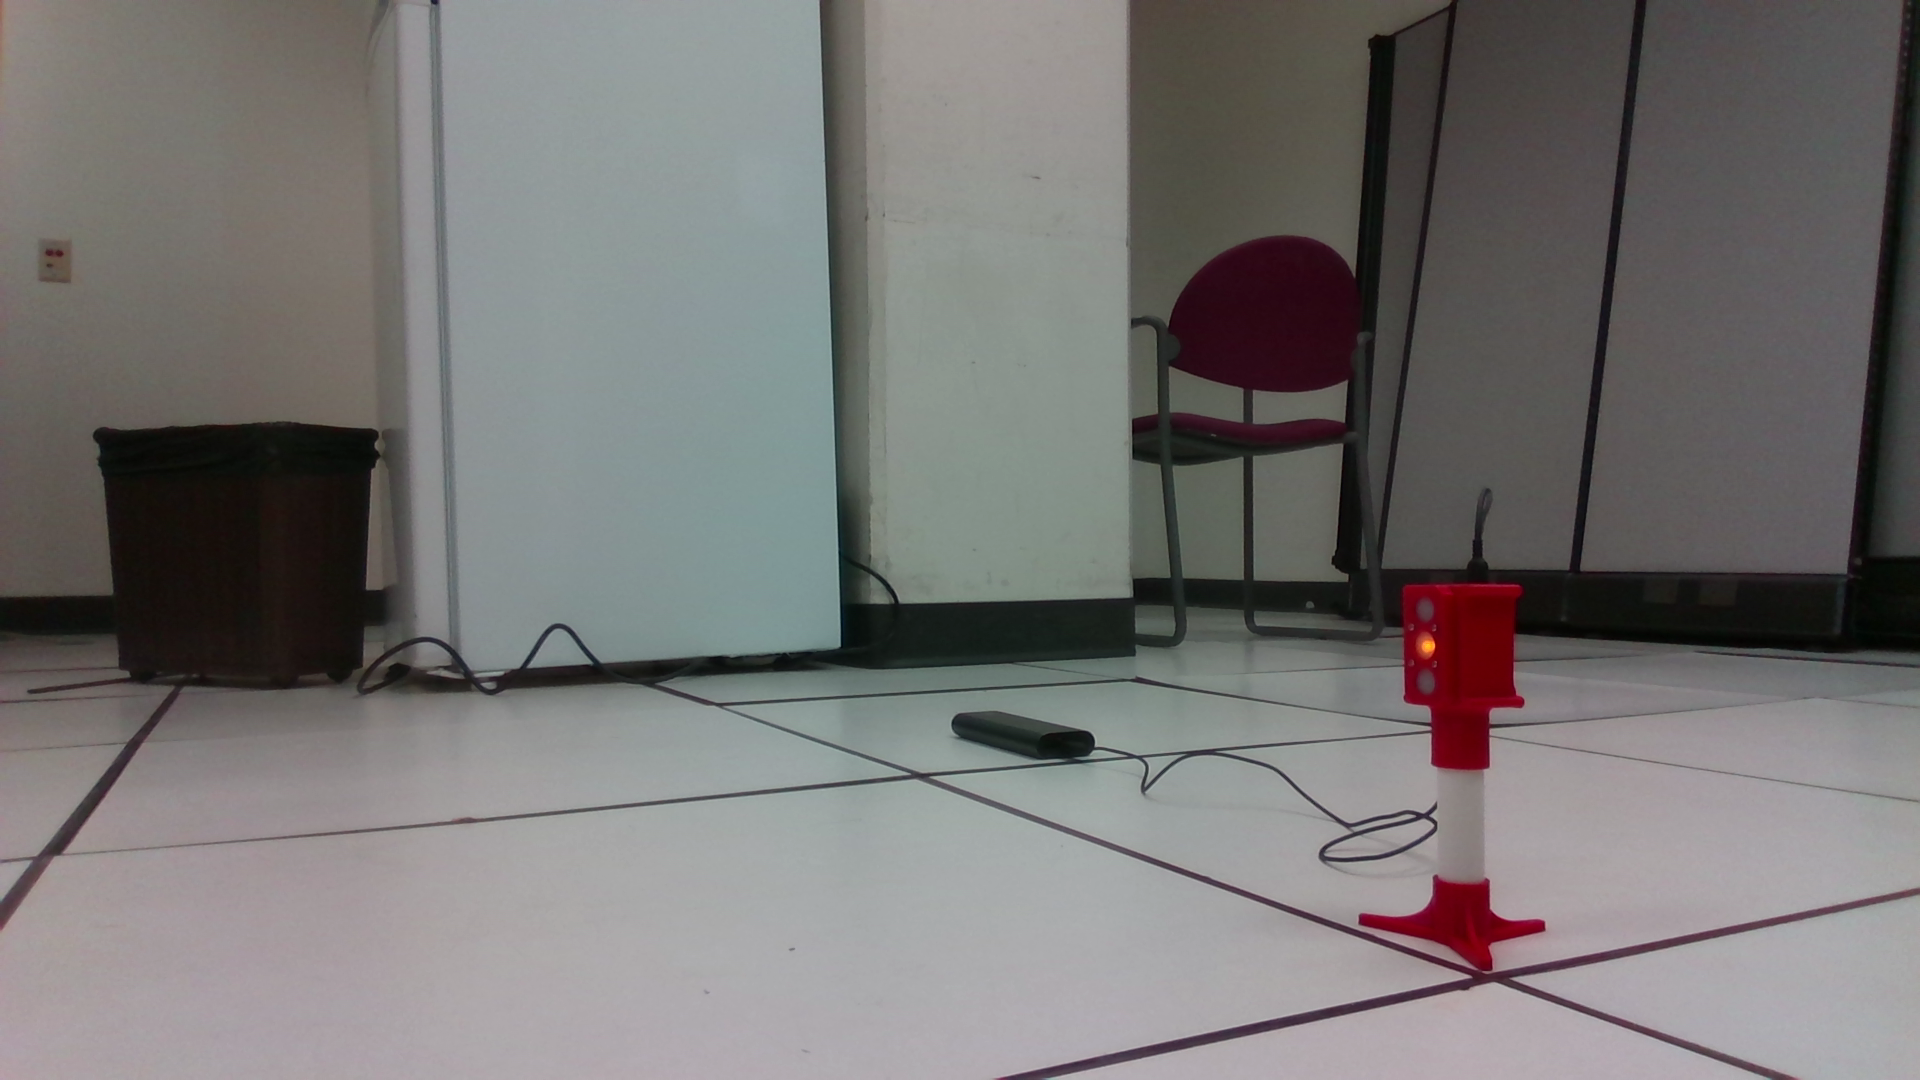stoplight: (1396, 582, 1528, 769)
